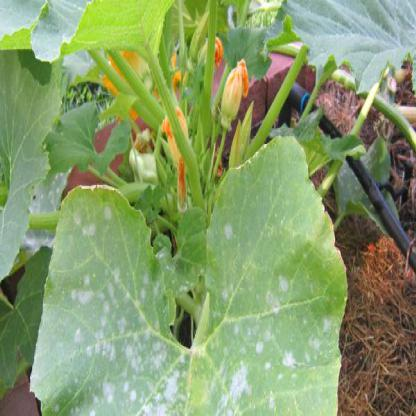squash powdery mildew leaf: (33, 129, 363, 415)
